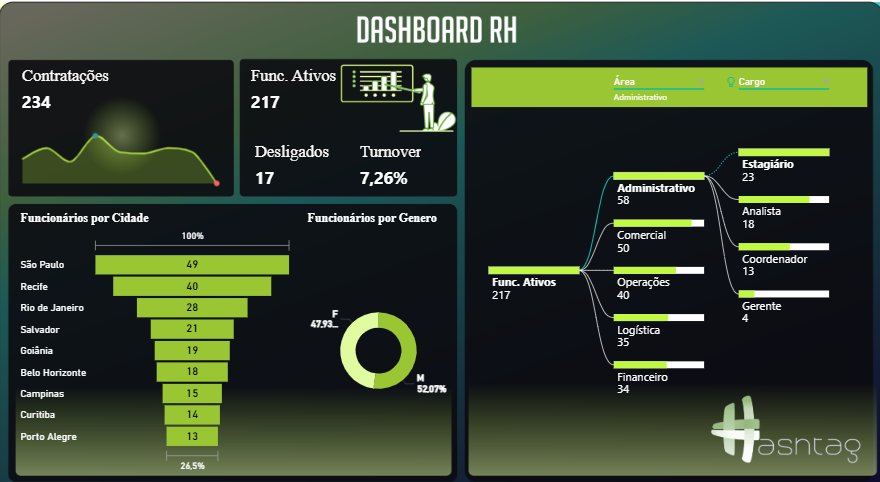

Layout of this report page (visuals, bound fields, positions):
{"tool":"powerbi","page":{"name":"Dashboard de RH","canvas":[1280,720],"ordinal":0},"visuals":[{"type":"cardVisual","fields":{"Data":["BaseFuncionarios.Contratações"]},"box":[21.6,99.4,172.8,73.4],"z":0},{"type":"PBI_CV_25997FEB_F466_44FA_B562_AC4063283C4C","fields":{"measure":["BaseFuncionarios.Contratações"],"axis":["BaseFuncionarios.Data de Contratacao.Variation.Hierarquia de datas.Ano"]},"box":[21.6,185.8,319.7,96.5],"z":1000},{"type":"cardVisual","fields":{"Data":["BaseFuncionarios.Func. Ativos"]},"box":[351.4,99.4,164.2,73.4],"z":2000},{"type":"cardVisual","fields":{"Data":["BaseFuncionarios.Func. Desligados"]},"box":[357.1,208.8,151.2,73.4],"z":3000},{"type":"cardVisual","fields":{"Data":["BaseFuncionarios.Turnover"]},"box":[508.3,208.8,151.2,73.4],"z":4000},{"type":"funnel","title":"Funcionários por Cidade","fields":{"Y":["BaseFuncionarios.Func. Ativos"],"Category":["BaseFuncionarios.Cidade"]},"box":[31.7,312.5,401.8,380.2],"z":5000},{"type":"donutChart","title":"Funcionários por Genero","fields":{"Y":["BaseFuncionarios.Func. Ativos"],"Category":["BaseFuncionarios.Genero"]},"box":[445,312.5,214.6,380.2],"z":6000},{"type":"decompositionTreeVisual","fields":{"Analyze":["BaseFuncionarios.Func. Ativos"],"ExplainBy":["BaseFuncionarios.Área","BaseFuncionarios.Cargo"]},"box":[681.1,99.4,580.3,580.3],"z":7000}]}

Visuals, with their boxes in screenshot pixels (x1, y1, x2, y2), scaled from the page's 1280x720 canvas onto the 880x482 screenshot:
cardVisual - BaseFuncionarios.Contratações: bbox=(15, 67, 134, 116)
PBI_CV_25997FEB_F466_44FA_B562_AC4063283C4C - BaseFuncionarios.Contratações x BaseFuncionarios.Data de Contratacao.Variation.Hierarquia de datas.Ano: bbox=(15, 124, 235, 189)
cardVisual - BaseFuncionarios.Func. Ativos: bbox=(242, 67, 354, 116)
cardVisual - BaseFuncionarios.Func. Desligados: bbox=(246, 140, 349, 189)
cardVisual - BaseFuncionarios.Turnover: bbox=(349, 140, 453, 189)
"Funcionários por Cidade" funnel: bbox=(22, 209, 298, 464)
"Funcionários por Genero" donutChart: bbox=(306, 209, 453, 464)
decompositionTreeVisual - BaseFuncionarios.Func. Ativos x BaseFuncionarios.Área: bbox=(468, 67, 867, 455)
